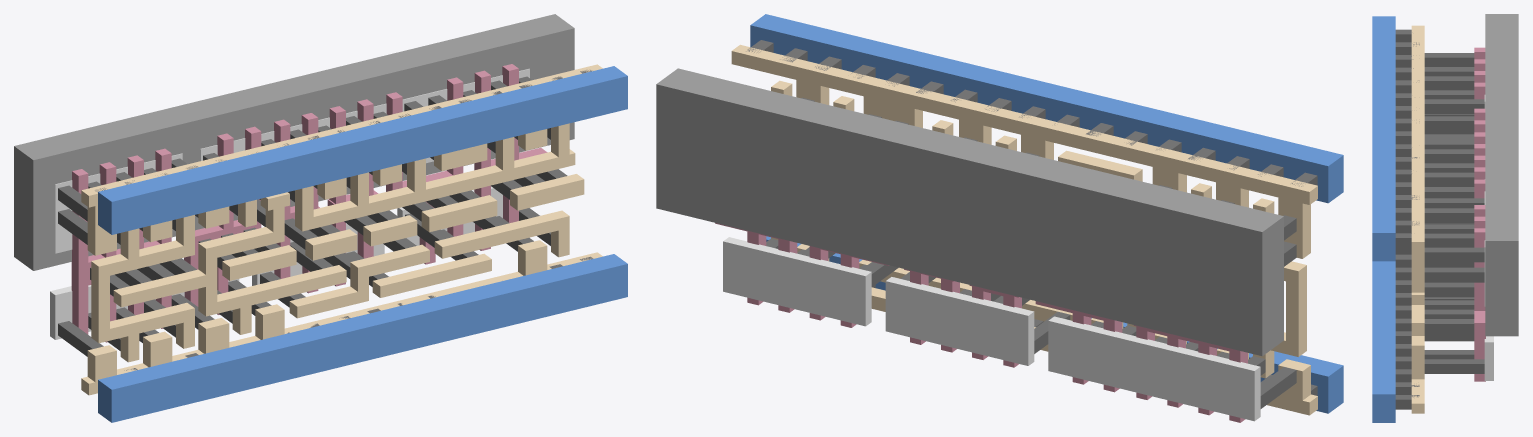
File: sky130_fd_sc_hd__a41o_4.gds.gltf
3 views of the same model, side by side, from view 1: azimuth 30°, elevation 25°; view 2: azimuth 150°, elevation 25°; view 3: azimuth 270°, elevation 25° (orthographic). The views are drawn at different scales.
Parts seen in each view (by area): view 1: sky130_fd_sc_hd__a41o_4_li1, sky130_fd_sc_hd__a41o_4_met1, sky130_fd_sc_hd__a41o_4_nwell, sky130_fd_sc_hd__a41o_4_licon, sky130_fd_sc_hd__a41o_4_poly, sky130_fd_sc_hd__a41o_4_diff, sky130_fd_sc_hd__a41o_4_mcon; view 2: sky130_fd_sc_hd__a41o_4_nwell, sky130_fd_sc_hd__a41o_4_diff, sky130_fd_sc_hd__a41o_4_li1, sky130_fd_sc_hd__a41o_4_met1, sky130_fd_sc_hd__a41o_4_poly, sky130_fd_sc_hd__a41o_4_mcon, sky130_fd_sc_hd__a41o_4_licon; view 3: sky130_fd_sc_hd__a41o_4_licon, sky130_fd_sc_hd__a41o_4_nwell, sky130_fd_sc_hd__a41o_4_met1, sky130_fd_sc_hd__a41o_4_mcon, sky130_fd_sc_hd__a41o_4_li1, sky130_fd_sc_hd__a41o_4_poly, sky130_fd_sc_hd__a41o_4_diff.
Part boxes in pixels (<box>): sky130_fd_sc_hd__a41o_4_li1: <box>81,64,602,395</box>; sky130_fd_sc_hd__a41o_4_met1: <box>98,66,627,422</box>; sky130_fd_sc_hd__a41o_4_nwell: <box>14,14,574,270</box>; sky130_fd_sc_hd__a41o_4_licon: <box>58,76,567,356</box>; sky130_fd_sc_hd__a41o_4_poly: <box>71,64,547,342</box>; sky130_fd_sc_hd__a41o_4_diff: <box>50,68,529,339</box>; sky130_fd_sc_hd__a41o_4_mcon: <box>95,70,593,370</box>; sky130_fd_sc_hd__a41o_4_nwell: <box>656,68,1283,356</box>; sky130_fd_sc_hd__a41o_4_diff: <box>723,237,1260,421</box>; sky130_fd_sc_hd__a41o_4_li1: <box>731,44,1317,415</box>; sky130_fd_sc_hd__a41o_4_met1: <box>750,14,1343,413</box>; sky130_fd_sc_hd__a41o_4_poly: <box>715,223,1247,422</box>; sky130_fd_sc_hd__a41o_4_mcon: <box>746,40,1317,395</box>; sky130_fd_sc_hd__a41o_4_licon: <box>766,97,1296,408</box>; sky130_fd_sc_hd__a41o_4_licon: <box>1424,53,1484,373</box>; sky130_fd_sc_hd__a41o_4_nwell: <box>1485,14,1518,336</box>; sky130_fd_sc_hd__a41o_4_met1: <box>1372,16,1395,422</box>; sky130_fd_sc_hd__a41o_4_mcon: <box>1395,29,1419,409</box>; sky130_fd_sc_hd__a41o_4_li1: <box>1411,25,1424,413</box>; sky130_fd_sc_hd__a41o_4_poly: <box>1474,47,1485,381</box>; sky130_fd_sc_hd__a41o_4_diff: <box>1484,95,1493,380</box>.
Bounding box in the file's own units: 8.2 × 3.2 × 2.24.
